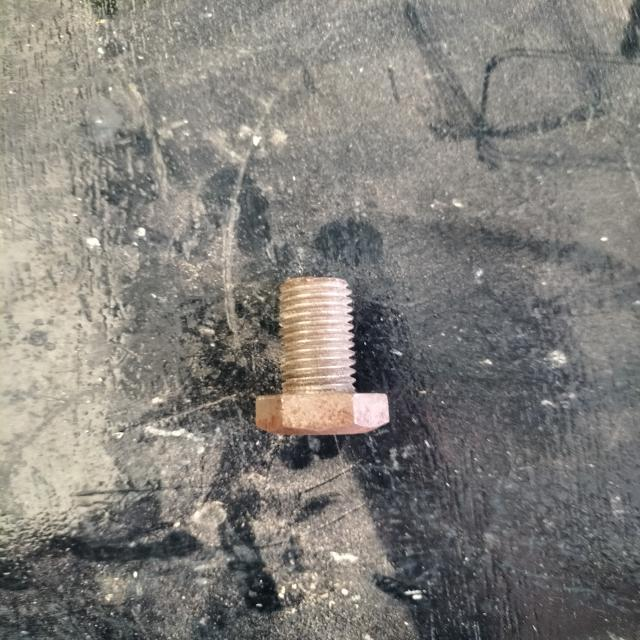bolt: (256, 277, 390, 435)
